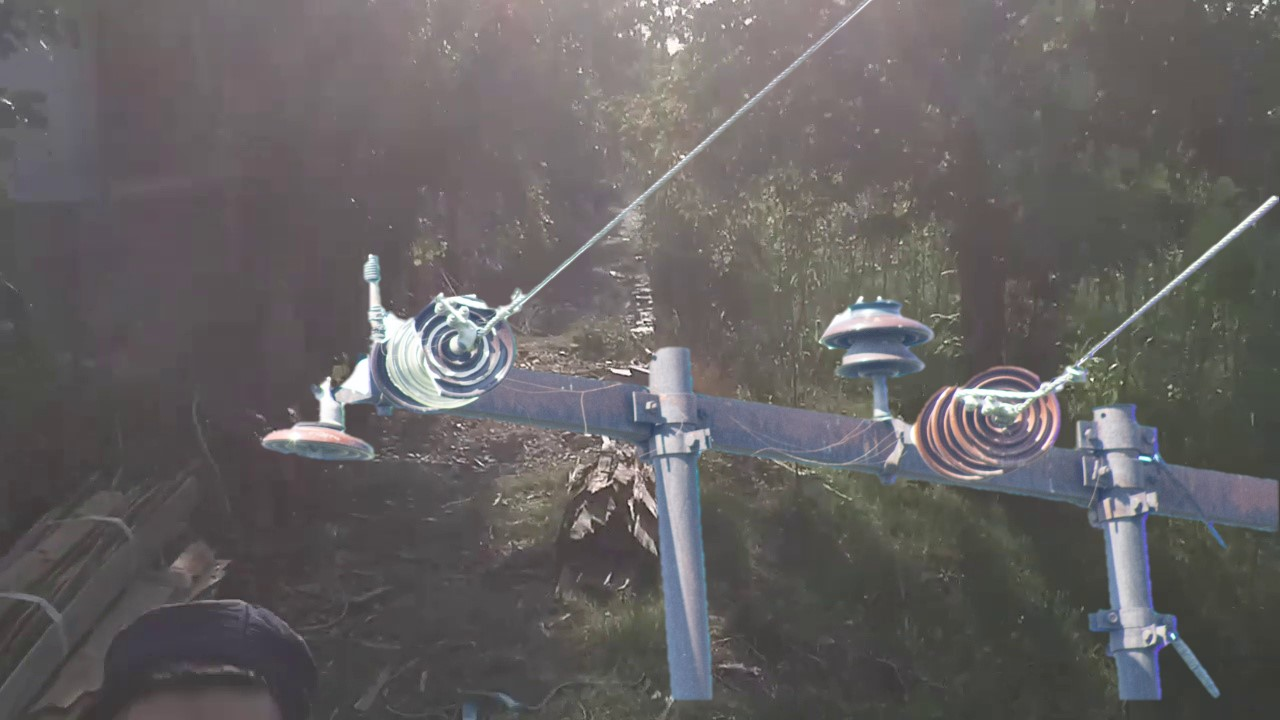defect_disc: (410, 291, 520, 407)
insulator_disc: (949, 359, 1066, 473), (259, 406, 381, 469)
